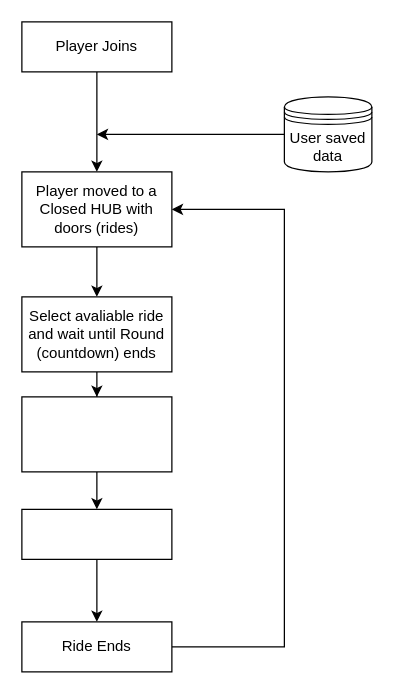
Some shapes in this 394 by 694 pixel diagram are drawn without their labels. Each missing label, with the centre of its shape:
Player /s are move to a wagon, 1st person, no moves: the point at 96,434
Ride Start: the point at 96,533
